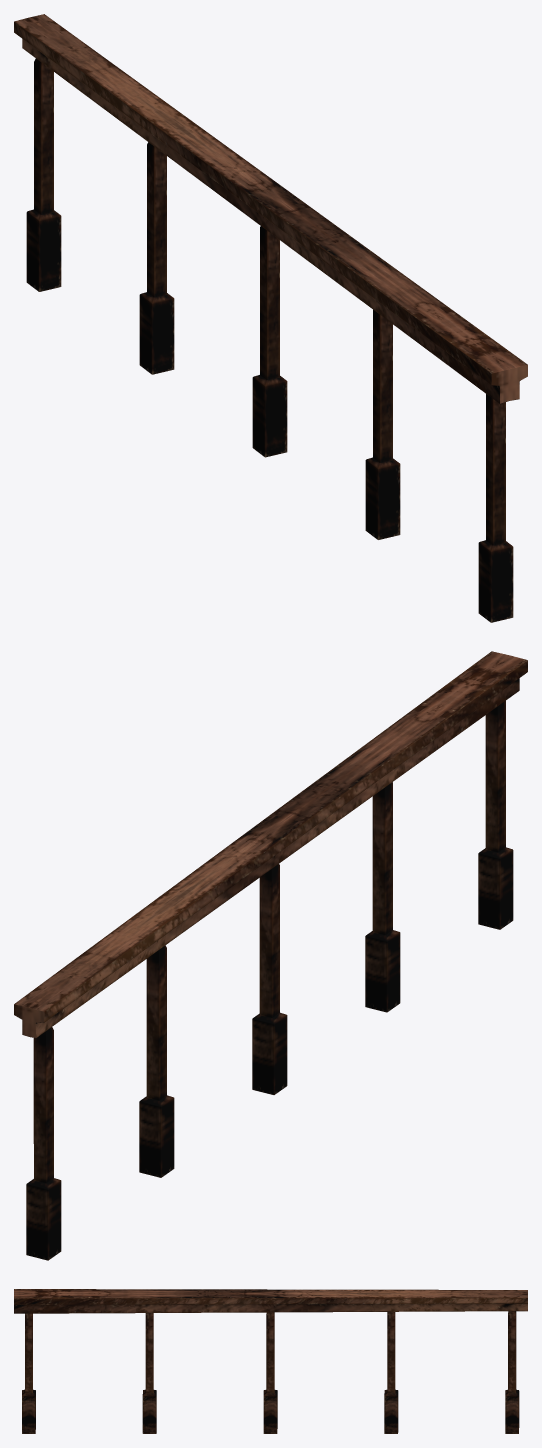
The model's file is Railing_B.fbx.
The picture shows the model from 3 angles, top to bottom: view 1: azimuth 30°, elevation 25°; view 2: azimuth 150°, elevation 25°; view 3: azimuth 270°, elevation 25°; orthographic projection. The views are drawn at different scales.
Parts seen in each view (by area): view 1: Railing_B; view 2: Railing_B; view 3: Railing_B.
Boxes of the visible parts, box(x1,y1,x2,y2) form: Railing_B: box(14, 14, 527, 622); Railing_B: box(14, 651, 527, 1260); Railing_B: box(14, 1289, 527, 1433).
Size of the model in its own units: 0.1582 by 3.59 by 1.06.
Materials: 1 (1 with a texture image).
